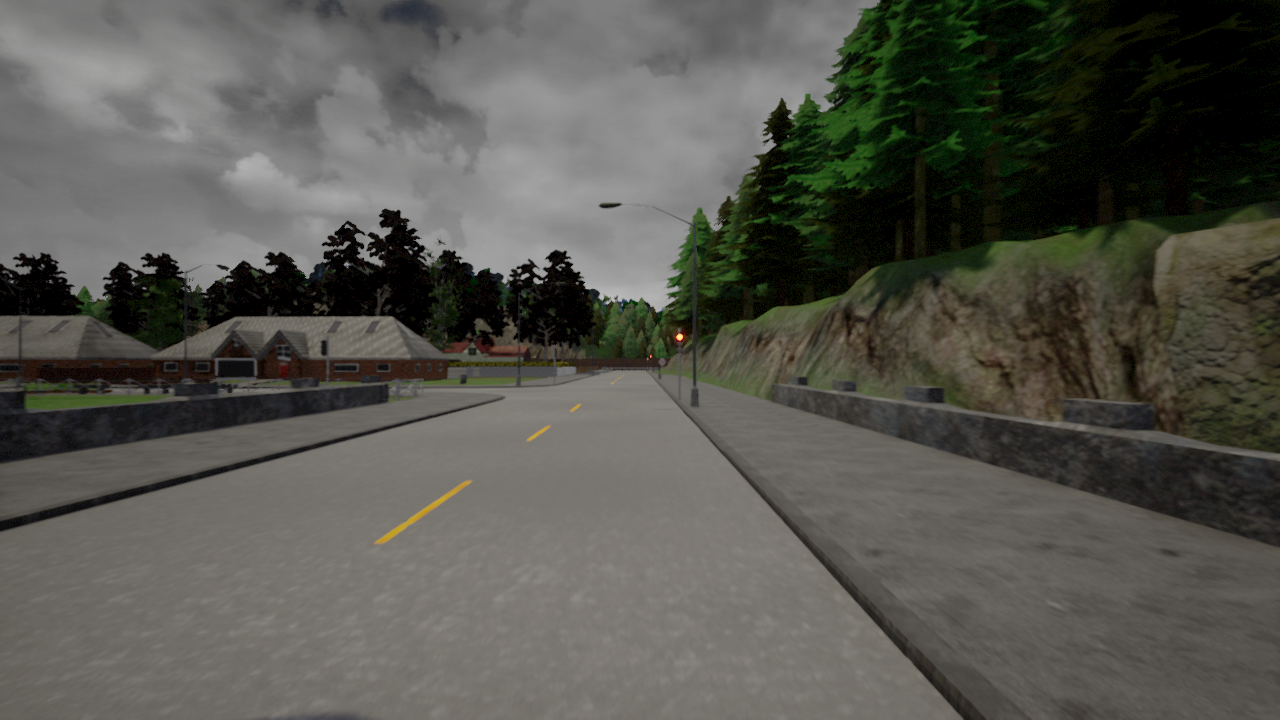red: (675, 331, 686, 355)
